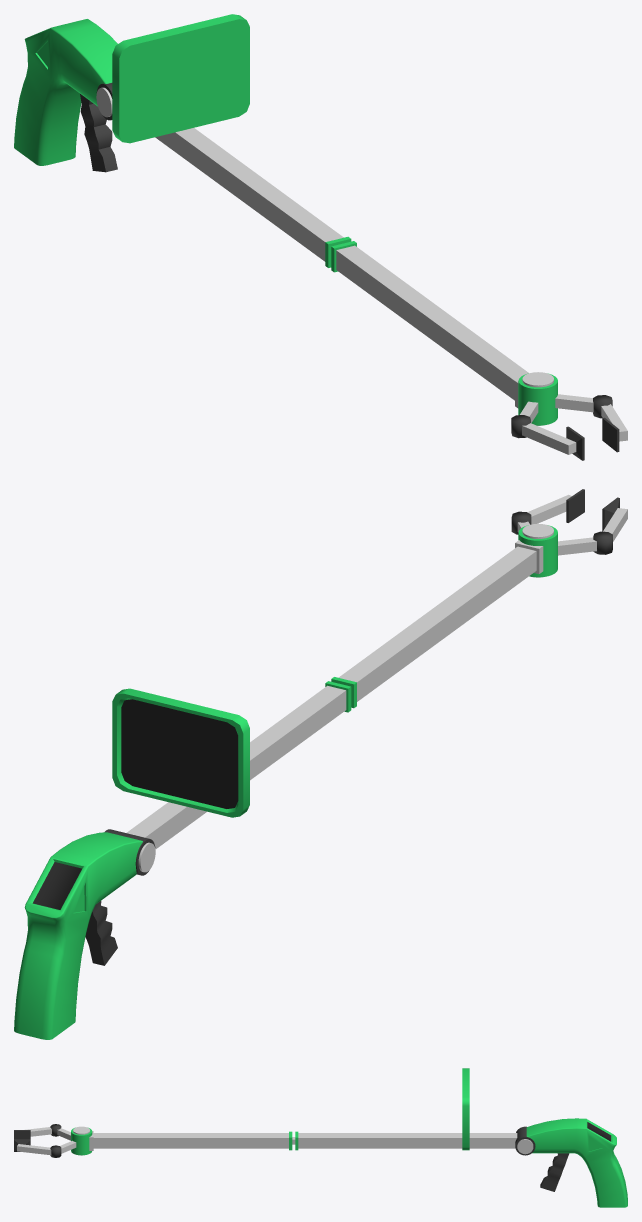
Rendered from Trash Clipper 1.fbx.
3 renders of one model, top to bottom at view 1: azimuth 30°, elevation 25°; view 2: azimuth 150°, elevation 25°; view 3: azimuth 270°, elevation 25°, orthographic. The views are drawn at different scales.
Visible parts, largest first — view 1: Cube, Clip_Base, Clip_Base.001, Clip_Base.002, Clip_Hand_R, Clip_Hand_L; view 2: Clip_Base, Cube, Clip_Base.001, Clip_Base.002, Clip_Hand_R, Clip_Hand_L; view 3: Clip_Base, Clip_Base.002, Clip_Base.001, Cube, Clip_Hand_L, Clip_Hand_R.
Boxes of the visible parts, box(x1,y1,x2,y2) form: Cube: box(112, 14, 249, 143); Clip_Base: box(14, 19, 557, 425); Clip_Base.001: box(331, 241, 528, 408); Clip_Base.002: box(155, 128, 351, 267); Clip_Hand_R: box(511, 401, 584, 460); Clip_Hand_L: box(555, 394, 627, 452); Clip_Base: box(14, 523, 557, 1039); Cube: box(112, 688, 249, 817); Clip_Base.001: box(331, 540, 543, 708); Clip_Base.002: box(126, 681, 351, 849); Clip_Hand_R: box(558, 497, 627, 555); Clip_Hand_L: box(511, 489, 584, 534); Clip_Base: box(71, 1118, 627, 1207); Clip_Base.002: box(292, 1131, 517, 1150); Clip_Base.001: box(89, 1131, 292, 1150); Cube: box(462, 1068, 469, 1150); Clip_Hand_L: box(14, 1139, 76, 1157); Clip_Hand_R: box(14, 1124, 70, 1140).
Size of the model in its own units: 281 by 455 by 2118.
